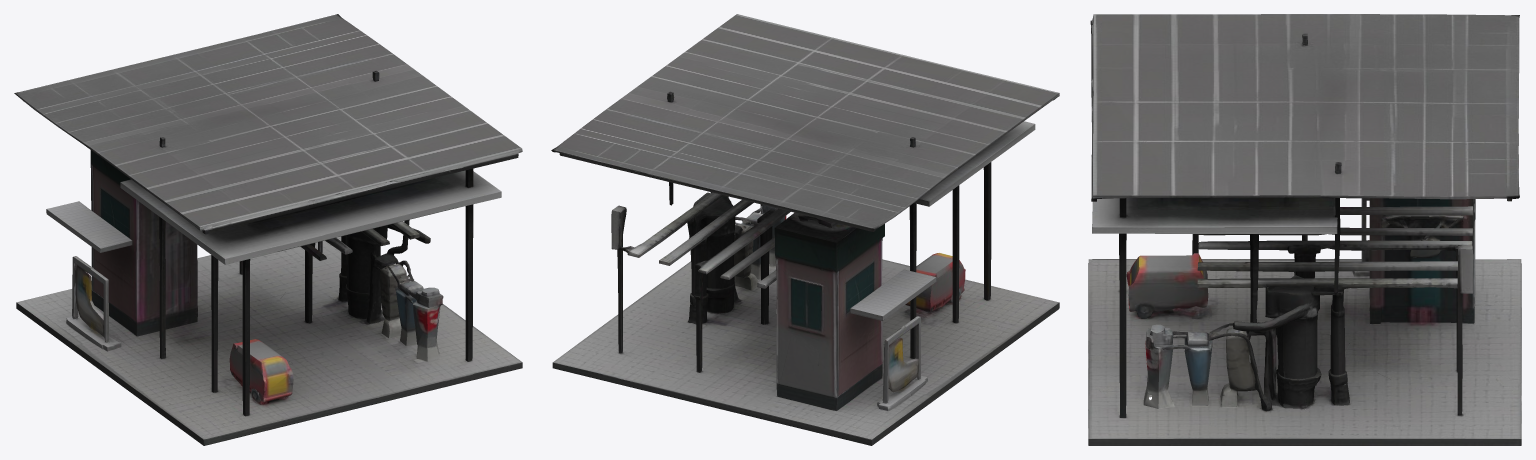
File: gasstation_tex.glb
3 views of the same model, side by side, from view 1: azimuth 30°, elevation 25°; view 2: azimuth 150°, elevation 25°; view 3: azimuth 270°, elevation 25° (orthographic). The views are drawn at different scales.
Visible parts, largest first — view 1: gasstation; view 2: gasstation; view 3: gasstation.
Boxes of the visible parts, box(x1,y1,x2,y2) form: gasstation: box(14, 14, 522, 445); gasstation: box(551, 14, 1059, 445); gasstation: box(1088, 14, 1521, 445).
Bounding box in the file's own units: 1.48 × 0.9989 × 1.49.
Materials: 1 (1 with a texture image).
